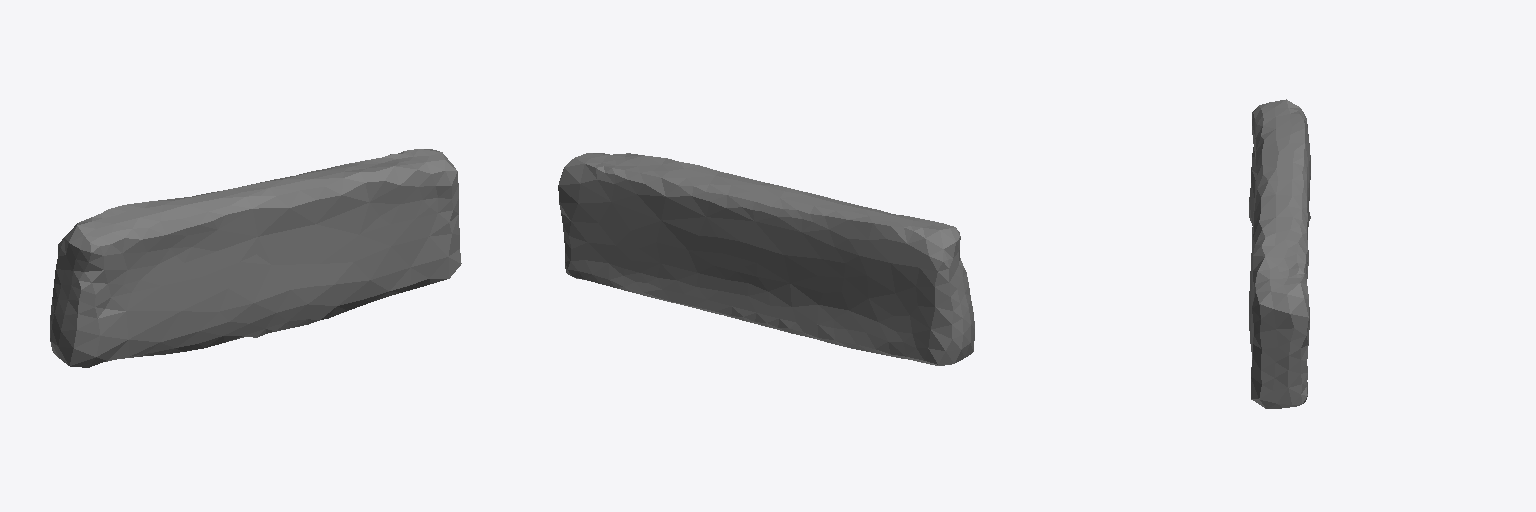
File: StonePlatform_D.obj
3 renders of one model, left to right at view 1: azimuth 30°, elevation 25°; view 2: azimuth 150°, elevation 25°; view 3: azimuth 270°, elevation 25°, orthographic.
Visible parts, largest first — view 1: Stone_D; view 2: Stone_D; view 3: Stone_D.
Boxes of the visible parts, x1=… form: Stone_D: x1=50, y1=149, x2=461, y2=367; Stone_D: x1=558, y1=153, x2=974, y2=365; Stone_D: x1=1249, y1=99, x2=1310, y2=408.
Bounding box in the file's own units: 27.54 × 9.38 × 3.74.